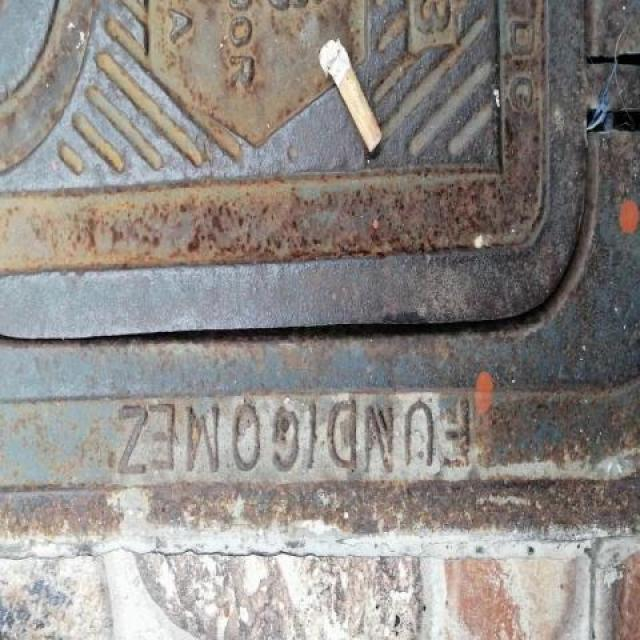non-organic waste: (314, 34, 389, 161)
